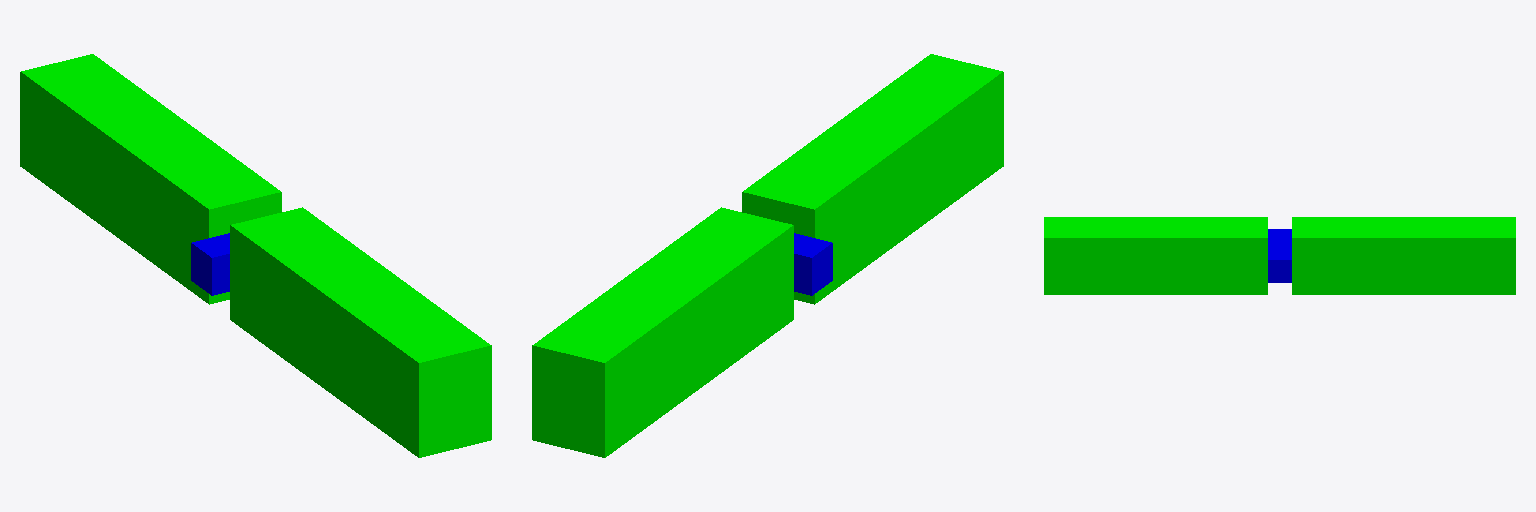
URDF robot description (robot):
<robot name = "robot">
    <link name="root">
        <inertial>
            <origin xyz="0.0 0.0 1.5" rpy="0 0 0"/>
            <mass value="1" />
            <inertia ixx="100" ixy="0" ixz="0" iyy="100" iyz="0" izz="100" />
        </inertial>
        <visual>
            <origin xyz="0.0 0.0 1.5" rpy="0 0 0"/>
            <geometry>
                <box size="0 0 0.0001" />
            </geometry>
            <material name="Green">
                <color rgba="0 1.0 0.0 1.0"/>
            </material>
        </visual>
        <collision>
            <origin xyz="0.0 0.0 1.5" rpy="0 0 0"/>
            <geometry>
                <box size="0 0 0.0001" />
            </geometry>
        </collision>
    </link>
    <joint name="root_000" type="revolute">
       <parent link="root"/>
       <child  link="000"/>
       <origin rpy="0 0 0" xyz="0.0 0.0 1.5" />
     <axis xyz="1 0 0"/>
       <limit effort="0.0" lower="-3.14159" upper="3.14159" velocity="0.0"/>
    </joint>
    <link name="000">
        <inertial>
            <origin xyz="0.3 0.0 0.0" rpy="0 0 0"/>
            <mass value="1" />
            <inertia ixx="100" ixy="0" ixz="0" iyy="100" iyz="0" izz="100" />
        </inertial>
        <visual>
            <origin xyz="0.3 0.0 0.0" rpy="0 0 0"/>
            <geometry>
                <box size="0.6 0.2 0.2" />
            </geometry>
            <material name="Blue">
                <color rgba="0 0.0 1.0 1.0"/>
            </material>
        </visual>
        <collision>
            <origin xyz="0.3 0.0 0.0" rpy="0 0 0"/>
            <geometry>
                <box size="0.6 0.2 0.2" />
            </geometry>
        </collision>
    </link>
    <joint name="000_000-100" type="revolute">
       <parent link="000"/>
       <child  link="000-100"/>
       <origin rpy="0 0 0" xyz="0.3 0.1 -0.0" />
     <axis xyz="0 1 0"/>
       <limit effort="0.0" lower="-3.14159" upper="3.14159" velocity="0.0"/>
    </joint>
    <link name="000-100">
        <inertial>
            <origin xyz="0.0 0.3 -0.0" rpy="0 0 0"/>
            <mass value="1" />
            <inertia ixx="100" ixy="0" ixz="0" iyy="100" iyz="0" izz="100" />
        </inertial>
        <visual>
            <origin xyz="0.0 0.3 -0.0" rpy="0 0 0"/>
            <geometry>
                <box size="0.4 0.6 0.5" />
            </geometry>
            <material name="Green">
                <color rgba="0 1.0 0.0 1.0"/>
            </material>
        </visual>
        <collision>
            <origin xyz="0.0 0.3 -0.0" rpy="0 0 0"/>
            <geometry>
                <box size="0.4 0.6 0.5" />
            </geometry>
        </collision>
    </link>
    <joint name="000-100_000-110" type="revolute">
       <parent link="000-100"/>
       <child  link="000-110"/>
       <origin rpy="0 0 0" xyz="0.0 0.6 -0.0" />
     <axis xyz="0 1 0"/>
       <limit effort="0.0" lower="-3.14159" upper="3.14159" velocity="0.0"/>
    </joint>
    <link name="000-110">
        <inertial>
            <origin xyz="0.0 0.3 -0.0" rpy="0 0 0"/>
            <mass value="1" />
            <inertia ixx="100" ixy="0" ixz="0" iyy="100" iyz="0" izz="100" />
        </inertial>
        <visual>
            <origin xyz="0.0 0.3 -0.0" rpy="0 0 0"/>
            <geometry>
                <box size="0.4 0.6 0.5" />
            </geometry>
            <material name="Green">
                <color rgba="0 1.0 0.0 1.0"/>
            </material>
        </visual>
        <collision>
            <origin xyz="0.0 0.3 -0.0" rpy="0 0 0"/>
            <geometry>
                <box size="0.4 0.6 0.5" />
            </geometry>
        </collision>
    </link>
    <joint name="000-110_000-120" type="revolute">
       <parent link="000-110"/>
       <child  link="000-120"/>
       <origin rpy="0 0 0" xyz="0.0 0.6 -0.0" />
     <axis xyz="0 1 0"/>
       <limit effort="0.0" lower="-3.14159" upper="3.14159" velocity="0.0"/>
    </joint>
    <link name="000-120">
        <inertial>
            <origin xyz="0.0 0.3 -0.0" rpy="0 0 0"/>
            <mass value="1" />
            <inertia ixx="100" ixy="0" ixz="0" iyy="100" iyz="0" izz="100" />
        </inertial>
        <visual>
            <origin xyz="0.0 0.3 -0.0" rpy="0 0 0"/>
            <geometry>
                <box size="0.4 0.6 0.5" />
            </geometry>
            <material name="Green">
                <color rgba="0 1.0 0.0 1.0"/>
            </material>
        </visual>
        <collision>
            <origin xyz="0.0 0.3 -0.0" rpy="0 0 0"/>
            <geometry>
                <box size="0.4 0.6 0.5" />
            </geometry>
        </collision>
    </link>
    <joint name="000_000-101" type="revolute">
       <parent link="000"/>
       <child  link="000-101"/>
       <origin rpy="0 0 0" xyz="0.3 -0.1 -0.0" />
     <axis xyz="0 1 0"/>
       <limit effort="0.0" lower="-3.14159" upper="3.14159" velocity="0.0"/>
    </joint>
    <link name="000-101">
        <inertial>
            <origin xyz="0.0 -0.3 -0.0" rpy="0 0 0"/>
            <mass value="1" />
            <inertia ixx="100" ixy="0" ixz="0" iyy="100" iyz="0" izz="100" />
        </inertial>
        <visual>
            <origin xyz="0.0 -0.3 -0.0" rpy="0 0 0"/>
            <geometry>
                <box size="0.4 0.6 0.5" />
            </geometry>
            <material name="Green">
                <color rgba="0 1.0 0.0 1.0"/>
            </material>
        </visual>
        <collision>
            <origin xyz="0.0 -0.3 -0.0" rpy="0 0 0"/>
            <geometry>
                <box size="0.4 0.6 0.5" />
            </geometry>
        </collision>
    </link>
    <joint name="000-101_000-111" type="revolute">
       <parent link="000-101"/>
       <child  link="000-111"/>
       <origin rpy="0 0 0" xyz="0.0 -0.6 -0.0" />
     <axis xyz="0 1 0"/>
       <limit effort="0.0" lower="-3.14159" upper="3.14159" velocity="0.0"/>
    </joint>
    <link name="000-111">
        <inertial>
            <origin xyz="0.0 -0.3 -0.0" rpy="0 0 0"/>
            <mass value="1" />
            <inertia ixx="100" ixy="0" ixz="0" iyy="100" iyz="0" izz="100" />
        </inertial>
        <visual>
            <origin xyz="0.0 -0.3 -0.0" rpy="0 0 0"/>
            <geometry>
                <box size="0.4 0.6 0.5" />
            </geometry>
            <material name="Green">
                <color rgba="0 1.0 0.0 1.0"/>
            </material>
        </visual>
        <collision>
            <origin xyz="0.0 -0.3 -0.0" rpy="0 0 0"/>
            <geometry>
                <box size="0.4 0.6 0.5" />
            </geometry>
        </collision>
    </link>
    <joint name="000-111_000-121" type="revolute">
       <parent link="000-111"/>
       <child  link="000-121"/>
       <origin rpy="0 0 0" xyz="0.0 -0.6 -0.0" />
     <axis xyz="0 1 0"/>
       <limit effort="0.0" lower="-3.14159" upper="3.14159" velocity="0.0"/>
    </joint>
    <link name="000-121">
        <inertial>
            <origin xyz="0.0 -0.3 -0.0" rpy="0 0 0"/>
            <mass value="1" />
            <inertia ixx="100" ixy="0" ixz="0" iyy="100" iyz="0" izz="100" />
        </inertial>
        <visual>
            <origin xyz="0.0 -0.3 -0.0" rpy="0 0 0"/>
            <geometry>
                <box size="0.4 0.6 0.5" />
            </geometry>
            <material name="Green">
                <color rgba="0 1.0 0.0 1.0"/>
            </material>
        </visual>
        <collision>
            <origin xyz="0.0 -0.3 -0.0" rpy="0 0 0"/>
            <geometry>
                <box size="0.4 0.6 0.5" />
            </geometry>
        </collision>
    </link>
</robot>

--- Facts derived from the render (not from the file) ---
3 views of the same robot in one strip: view 1: azimuth 30°, elevation 25°; view 2: azimuth 150°, elevation 25°; view 3: azimuth 270°, elevation 25° (orthographic).
Model robot with 8 links and 7 joints (7 revolute), rooted at root, posed all joints at 0.
Links seen in each view (by area): view 1: 000-121, 000-100, 000-111, 000-110, 000-120, 000-101, 000; view 2: 000-120, 000-101, 000-110, 000-100, 000-111, 000-121, 000; view 3: 000-100, 000-120, 000-101, 000-121, 000-110, 000-111, 000.
Boxes of the visible links, bbox=[...] form: 000-121: bbox=[356, 299, 491, 457]; 000-100: bbox=[146, 146, 281, 304]; 000-111: bbox=[293, 253, 427, 411]; 000-110: bbox=[83, 100, 217, 257]; 000-120: bbox=[20, 54, 155, 211]; 000-101: bbox=[230, 207, 364, 365]; 000: bbox=[191, 233, 229, 295]; 000-120: bbox=[532, 299, 667, 457]; 000-101: bbox=[742, 146, 877, 304]; 000-110: bbox=[596, 253, 730, 411]; 000-100: bbox=[659, 207, 793, 365]; 000-111: bbox=[806, 100, 940, 257]; 000-121: bbox=[868, 54, 1003, 211]; 000: bbox=[794, 233, 832, 295]; 000-100: bbox=[1292, 217, 1366, 294]; 000-120: bbox=[1441, 217, 1515, 294]; 000-101: bbox=[1193, 217, 1267, 294]; 000-121: bbox=[1044, 217, 1118, 294]; 000-110: bbox=[1367, 217, 1440, 294]; 000-111: bbox=[1119, 217, 1192, 294]; 000: bbox=[1268, 229, 1291, 282].
Bounding box of the posed robot: 0.6 × 3.8 × 0.5 m (x, y, z).
Geometry: primitives only (box / cylinder / sphere), no mesh files.